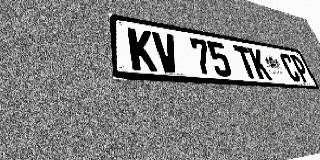5: (206, 40, 234, 77)
7: (188, 37, 216, 76)
C: (278, 53, 302, 82)
K: (127, 27, 158, 72), (247, 47, 272, 80)
P: (289, 54, 312, 83)
T: (233, 45, 259, 79)
V: (152, 31, 181, 73)
